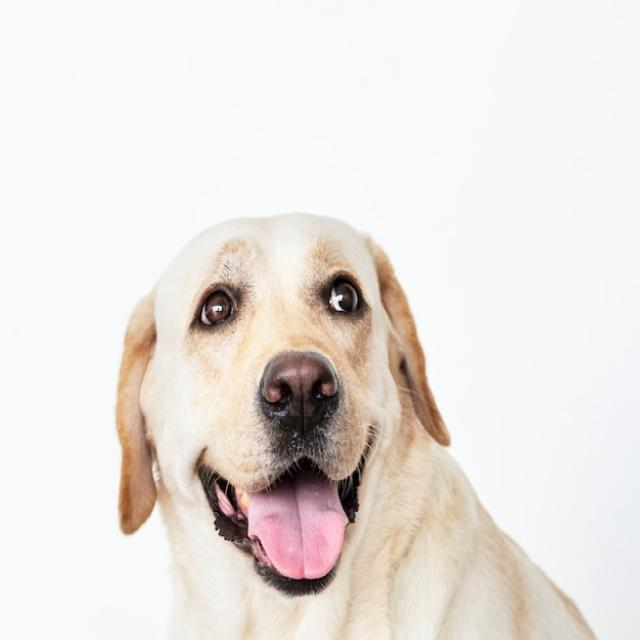Dog: (114, 215, 594, 640)
